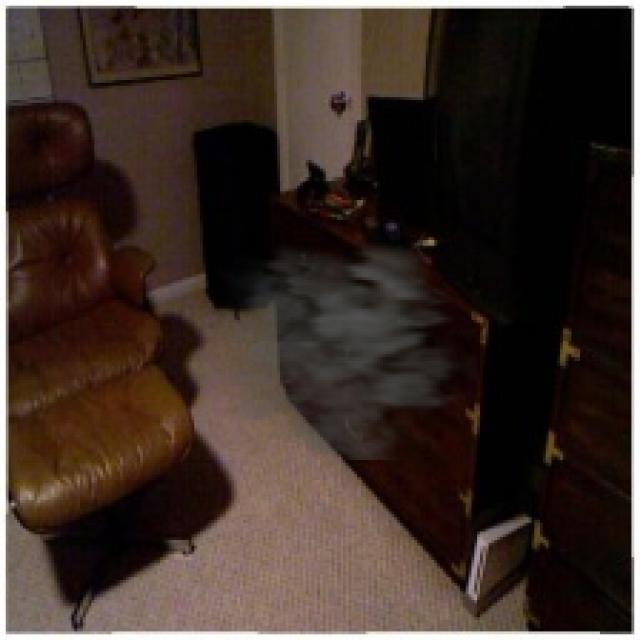smoke: (197, 226, 477, 460)
